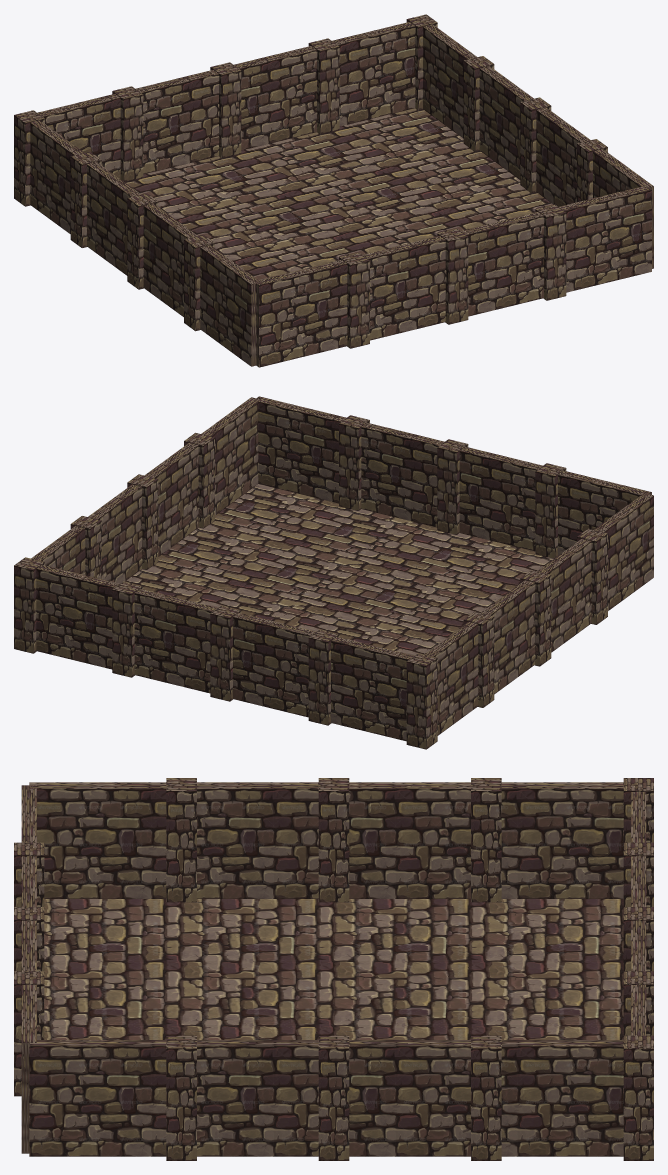
The picture shows the model from 3 angles, top to bottom: view 1: azimuth 30°, elevation 25°; view 2: azimuth 150°, elevation 25°; view 3: azimuth 270°, elevation 25°; orthographic projection. The views are drawn at different scales.
Visible parts, largest first — view 1: Plane, Cube_2_3, Cube_4_2, Cube, Cube_3_4, Cube_5_2, Cube_3_5, Cube_3_2, Cube_2_2, Cube_5_4, Cube_2_5, Cube_5 (+7 smaller); view 2: Plane, Cube_4_2, Cube_2_3, Cube, Cube_3_4, Cube_4, Cube_5_4, Cube_2_5, Cube_3_5, Cube_1, Cube_5_2, Cube_2_2 (+7 smaller); view 3: Plane, Cube_3_4, Cube, Cube_2_3, Cube_5_3, Cube_5, Cube_3_3, Cube_2_4, Cube_1, Cube_3, Cube_2, Cube_4_2 (+7 smaller).
Boxes of the visible parts, x1,y1,x2,y2 form: Plane: (125, 108, 552, 279); Cube_2_3: (256, 185, 651, 367); Cube_4_2: (37, 22, 415, 178); Cube: (30, 120, 260, 366); Cube_3_4: (423, 24, 653, 268); Cube_5_2: (437, 228, 468, 324); Cube_3_5: (112, 86, 143, 181); Cube_3_2: (535, 204, 566, 300); Cube_2_2: (339, 252, 369, 348); Cube_5_4: (210, 62, 241, 157); Cube_2_5: (308, 38, 339, 133); Cube_5: (127, 193, 158, 289); Plane: (125, 484, 553, 655); Cube_4_2: (36, 564, 413, 741); Cube_2_3: (254, 396, 651, 555); Cube: (424, 493, 653, 735); Cube_3_4: (31, 397, 259, 583); Cube_4: (406, 653, 437, 749); Cube_5_4: (210, 605, 241, 701); Cube_2_5: (112, 581, 143, 677); Cube_3_5: (308, 629, 339, 725); Cube_1: (14, 557, 44, 653); Cube_5_2: (437, 439, 468, 534); Cube_2_2: (535, 463, 566, 558); Plane: (44, 899, 623, 1039); Cube_3_4: (29, 1040, 623, 1156); Cube: (29, 782, 623, 898); Cube_2_3: (21, 785, 36, 1153); Cube_5_3: (318, 1035, 349, 1160); Cube_5: (318, 778, 349, 902); Cube_3_3: (166, 1035, 196, 1160); Cube_2_4: (471, 1035, 501, 1160); Cube_1: (623, 1035, 653, 1160); Cube_3: (471, 778, 501, 902); Cube_2: (166, 778, 196, 902); Cube_4_2: (631, 792, 646, 1035).
Bounding box in the file's own units: 42 × 8.12 × 42.
Materials: 19 (19 with a texture image).
